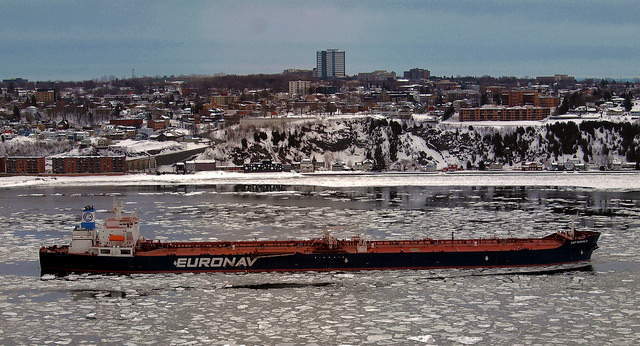tanker: (39, 201, 602, 277)
